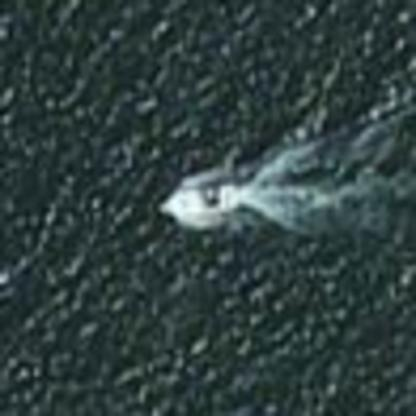ship: (151, 171, 253, 225)
